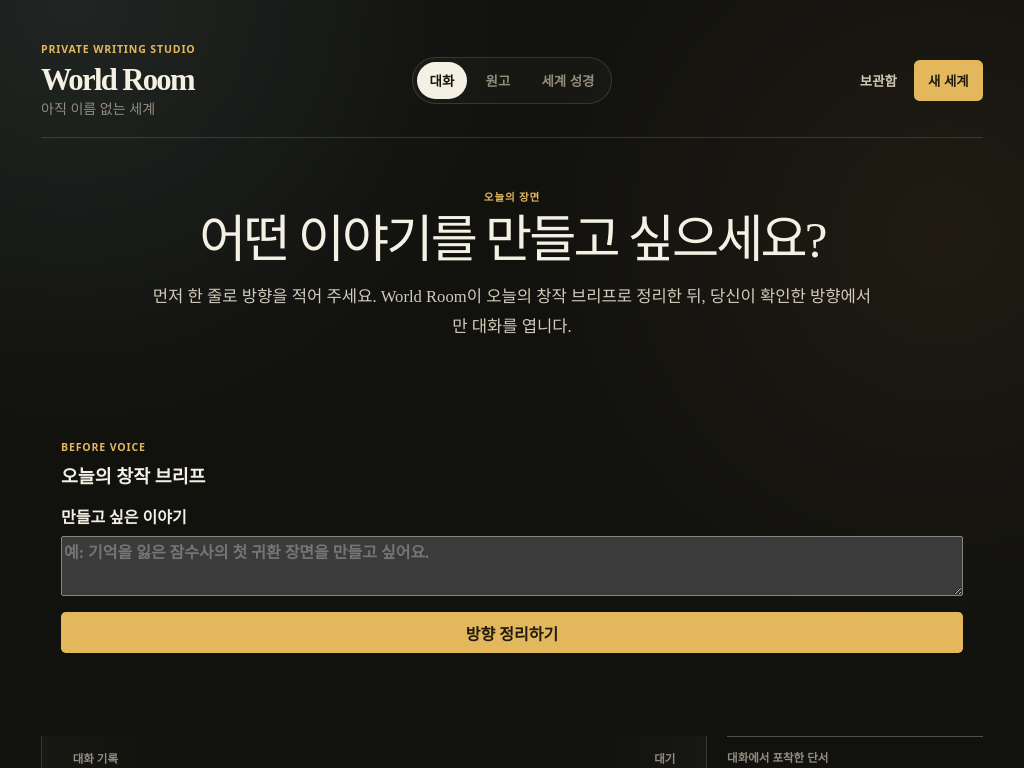
Test: World Room 앱 › 새 세계를 열면 이전 세계의 저장된 원고와 세계 성경을 비운다
Click the button "보관함" at coordinates (878, 80), box left=849, top=60, right=908, bottom=101
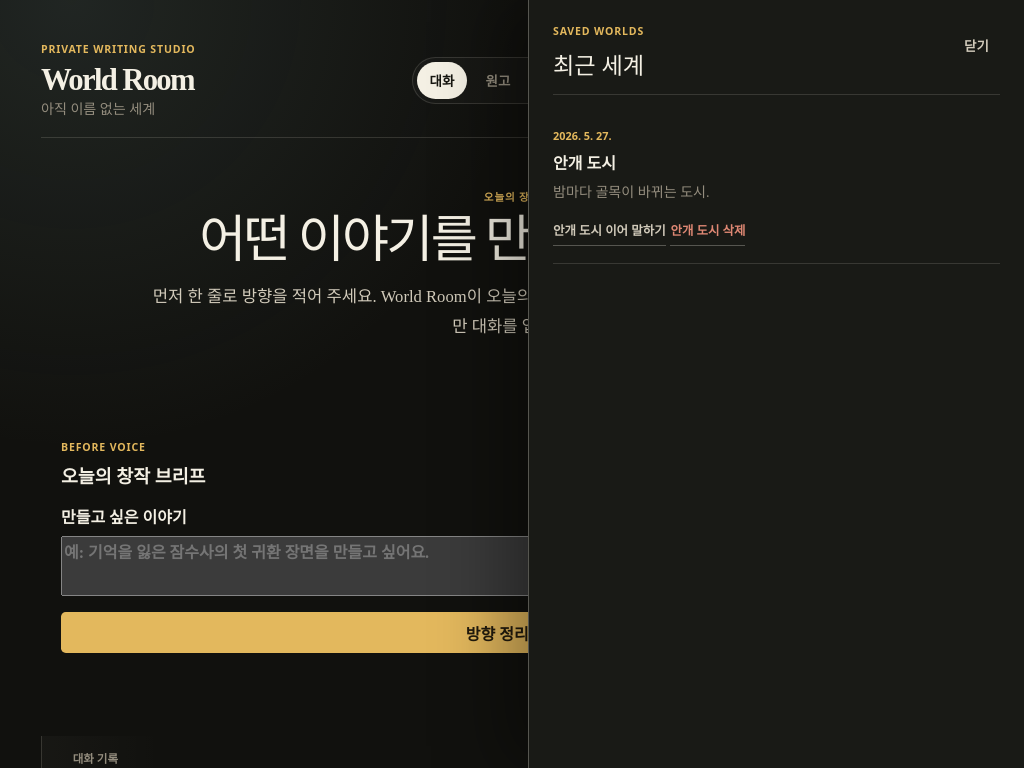
Click the button "안개 도시 이어 말하기" at coordinates (609, 230), box left=553, top=215, right=666, bottom=246
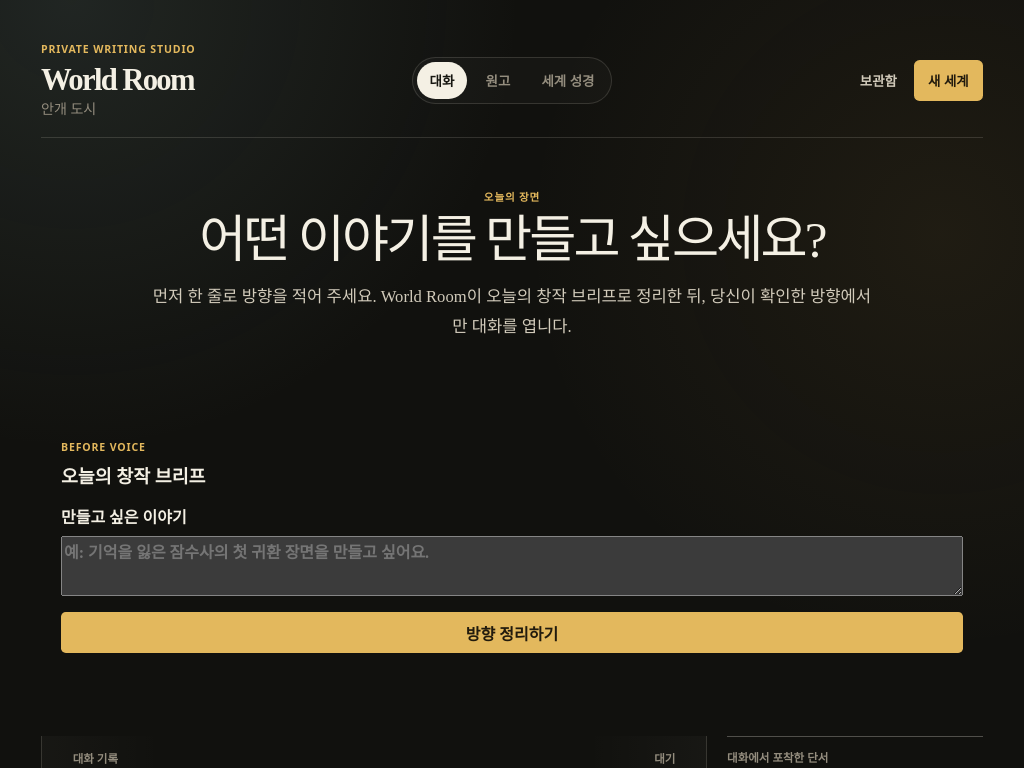
Click the button "새 세계" at coordinates (948, 80), box left=914, top=60, right=983, bottom=101
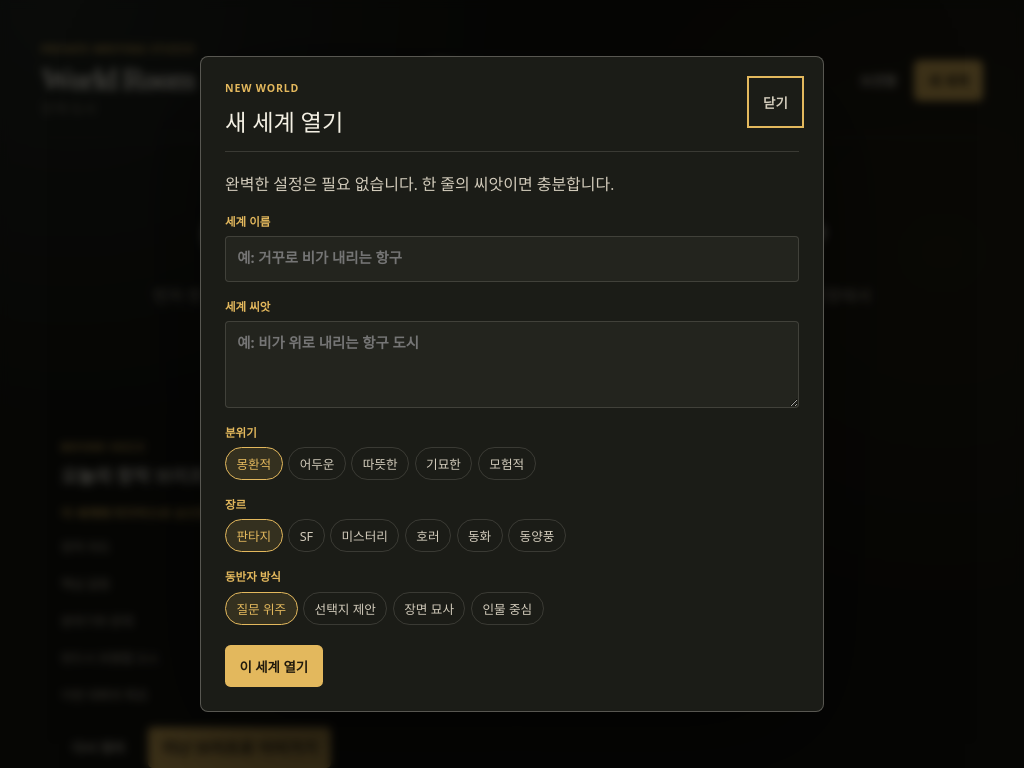
Type "새 항구" into the field labelled "세계 이름" at coordinates (512, 259), box left=225, top=236, right=799, bottom=282
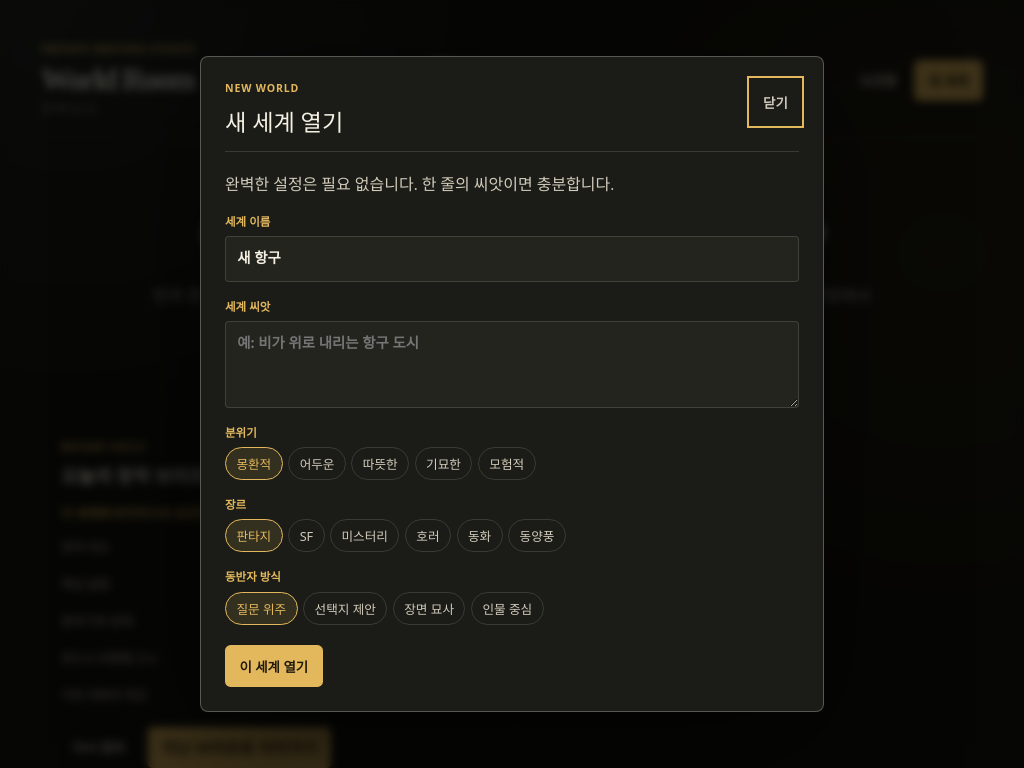
Click the button "이 세계 열기" at coordinates (274, 666), box left=225, top=646, right=323, bottom=687
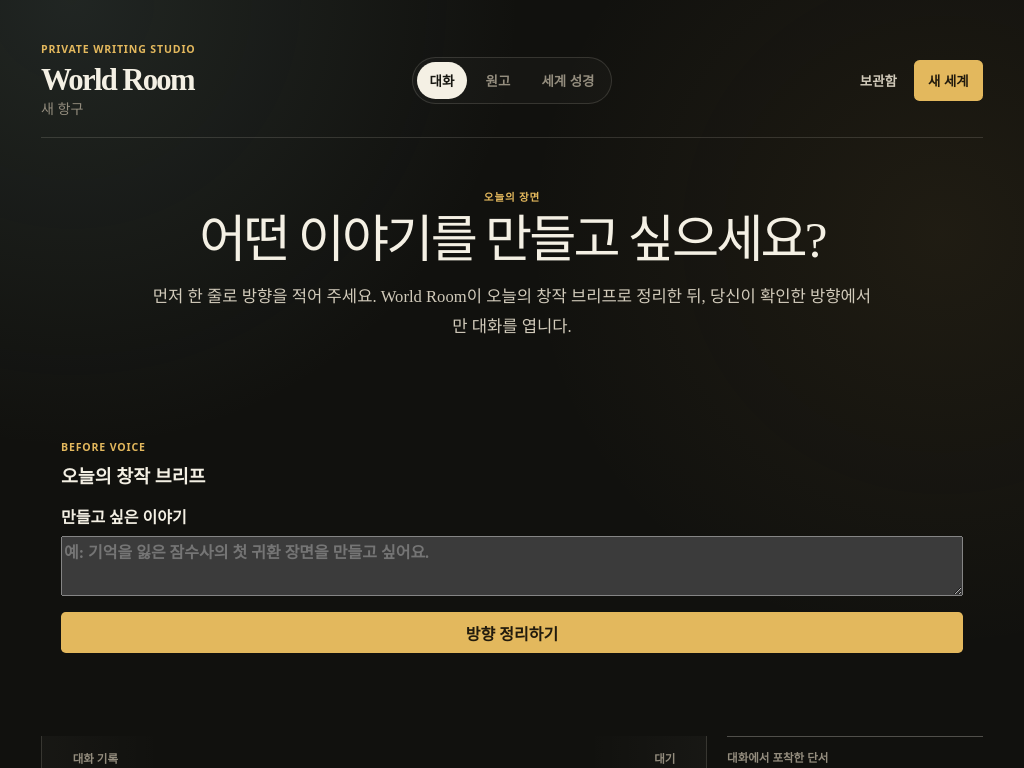
Click the button "원고" at coordinates (498, 80), box left=473, top=62, right=523, bottom=99
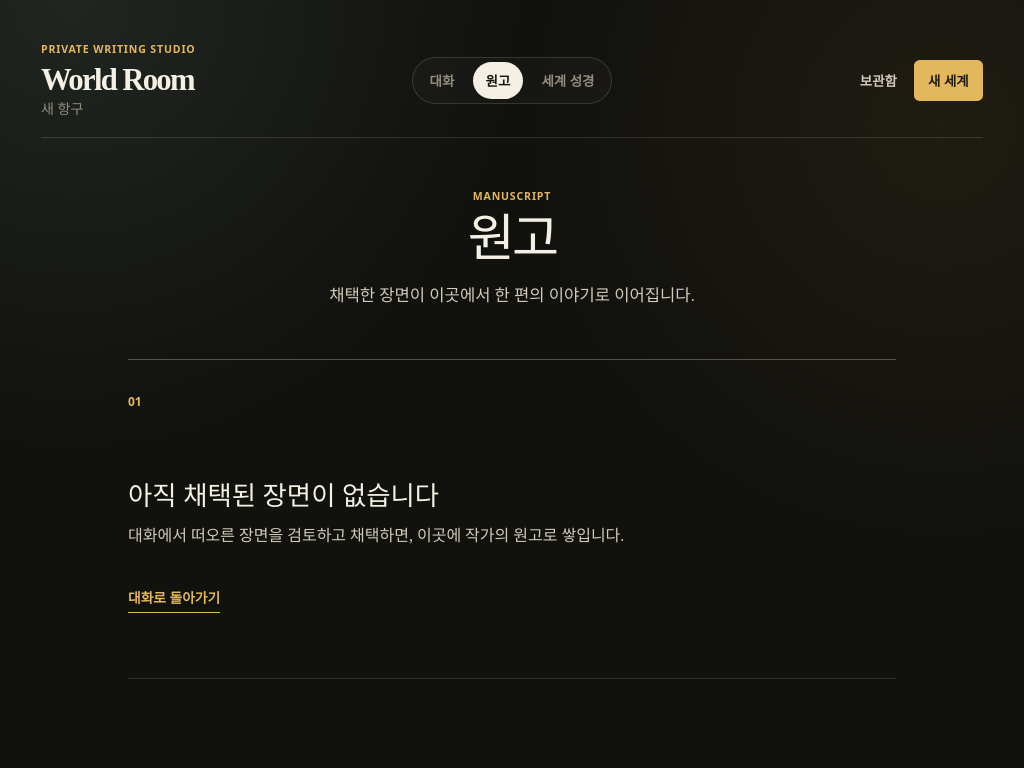
Expected: the heading "아직 채택된 장면이 없습니다" is shown, left=128, top=480, right=439, bottom=510
